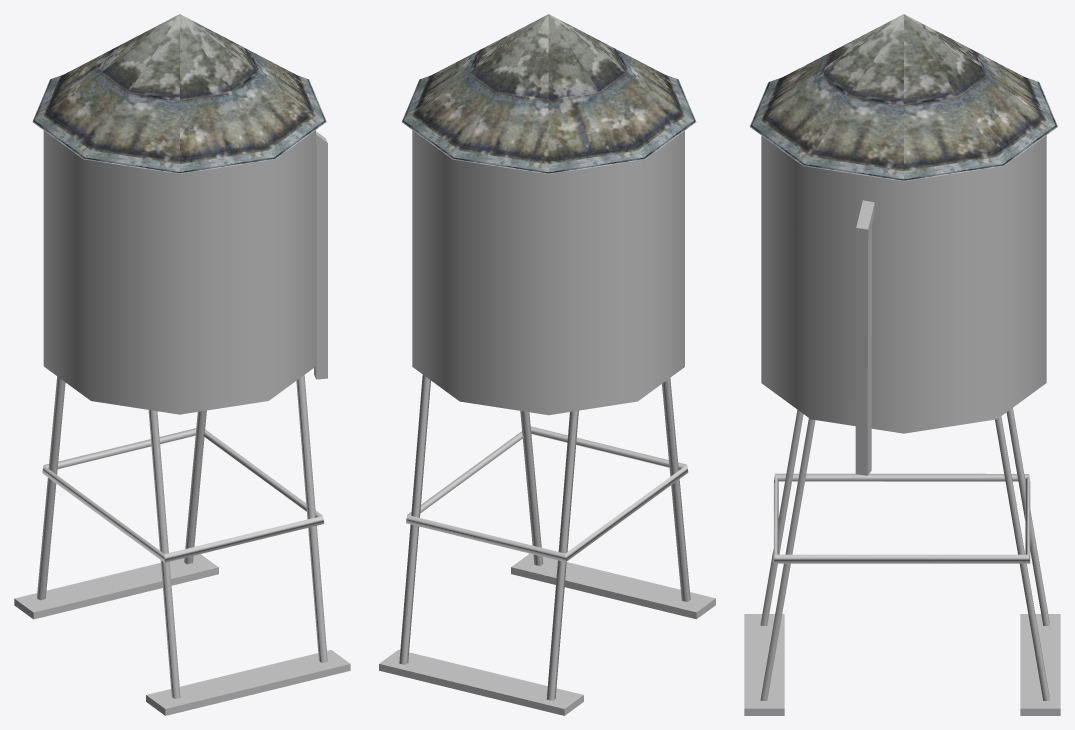
The model's file is WaterReservoir.fbx.
3 renders of one model, left to right at view 1: azimuth 30°, elevation 25°; view 2: azimuth 150°, elevation 25°; view 3: azimuth 270°, elevation 25°, orthographic. The views are drawn at different scales.
Visible parts, largest first — view 1: WaterReservoir; view 2: WaterReservoir; view 3: WaterReservoir.
Part boxes in pixels (bbox=[...]): WaterReservoir: bbox=[14, 14, 350, 715]; WaterReservoir: bbox=[379, 14, 715, 715]; WaterReservoir: bbox=[744, 14, 1060, 715].
Bounding box in the file's own units: 400 × 950 × 417.
